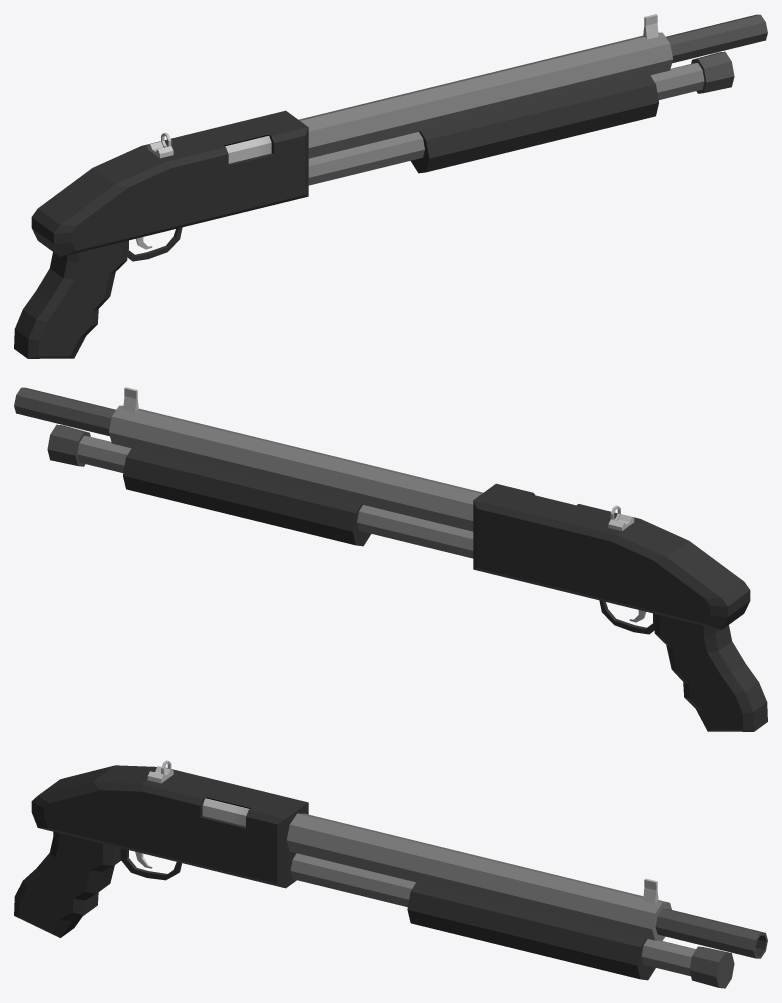
3 views of the same model, one above another, from view 1: azimuth 30°, elevation 25°; view 2: azimuth 150°, elevation 25°; view 3: azimuth 330°, elevation 25° (orthographic).
Visible parts, largest first — view 1: Cube, Cylinder, Cylinder.002, Cube.001, Cylinder.001, Cube.005, Cube.004; view 2: Cube, Cylinder, Cylinder.002, Cube.001, Cylinder.001, Cube.004; view 3: Cube, Cylinder, Cylinder.002, Cube.001, Cylinder.001, Cube.005, Cube.004, Cube.002.
Part boxes in pixels (bbox=[...]): Cube: bbox=[31, 110, 308, 256]; Cylinder: bbox=[299, 14, 767, 158]; Cylinder.002: bbox=[411, 75, 658, 173]; Cube.001: bbox=[14, 241, 127, 358]; Cylinder.001: bbox=[308, 51, 734, 185]; Cube.005: bbox=[225, 135, 271, 163]; Cube.004: bbox=[147, 14, 658, 158]; Cube: bbox=[473, 483, 750, 629]; Cylinder: bbox=[14, 387, 482, 531]; Cylinder.002: bbox=[123, 448, 370, 546]; Cube.001: bbox=[654, 614, 767, 731]; Cylinder.001: bbox=[47, 424, 473, 558]; Cube.004: bbox=[123, 387, 634, 530]; Cube: bbox=[31, 765, 308, 888]; Cylinder: bbox=[286, 813, 767, 958]; Cylinder.002: bbox=[407, 882, 655, 980]; Cube.001: bbox=[14, 831, 120, 937]; Cylinder.001: bbox=[290, 853, 734, 988]; Cube.005: bbox=[202, 798, 249, 826]; Cube.004: bbox=[147, 760, 658, 903]; Cube.002: bbox=[120, 848, 181, 880].
Size of the model in its own units: 947 by 239 by 62.1.
